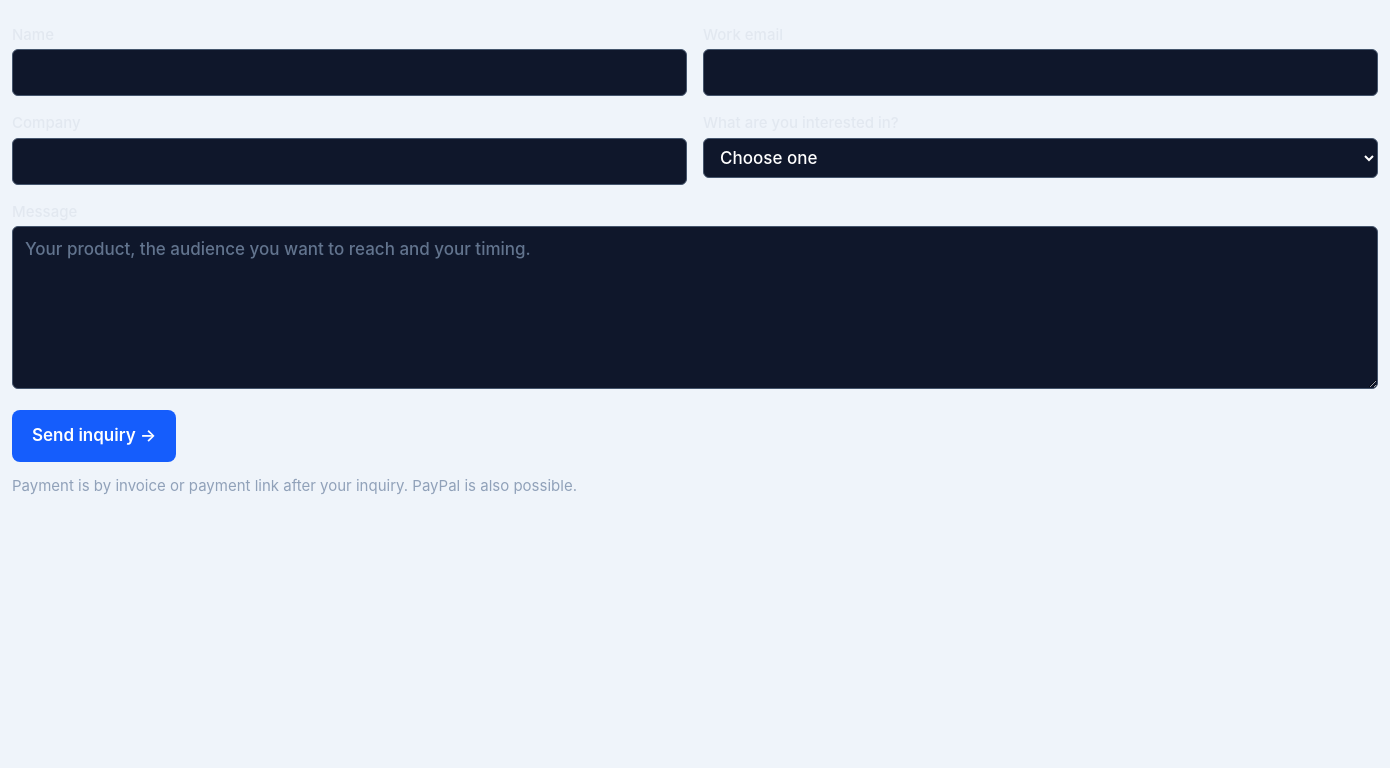
Scenario: sponsor inquiry recovery › preserves every field and the retry draft for HTTP 429 and {"success":false,"error":"Please try again in an hour."}
This screenshot has width=1390, height=768.
Type "Reliability test" into the field labelled "Name" at (350, 73), box 12,49 -> 687,96
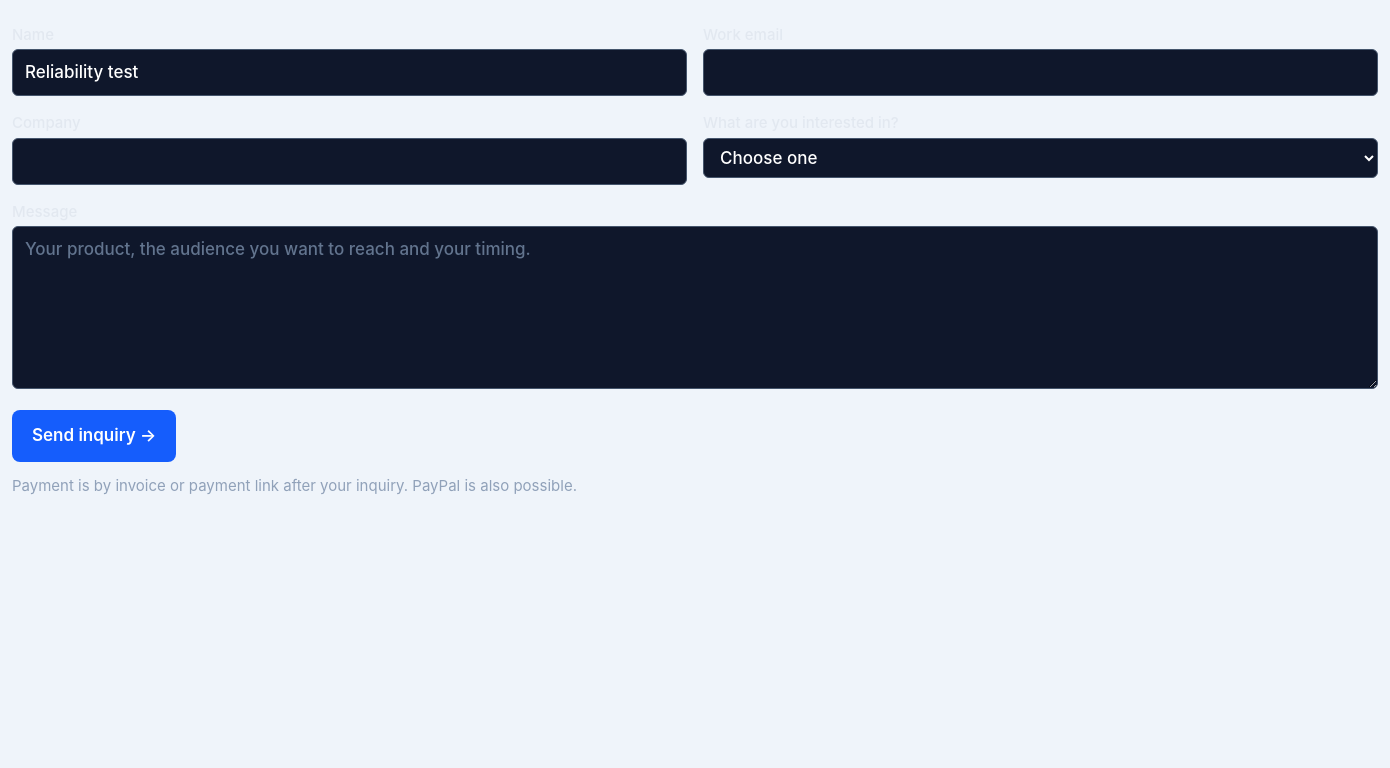
Type "test@example.com" into the field labelled "Work email" at (1040, 73), box 703,49 -> 1378,96
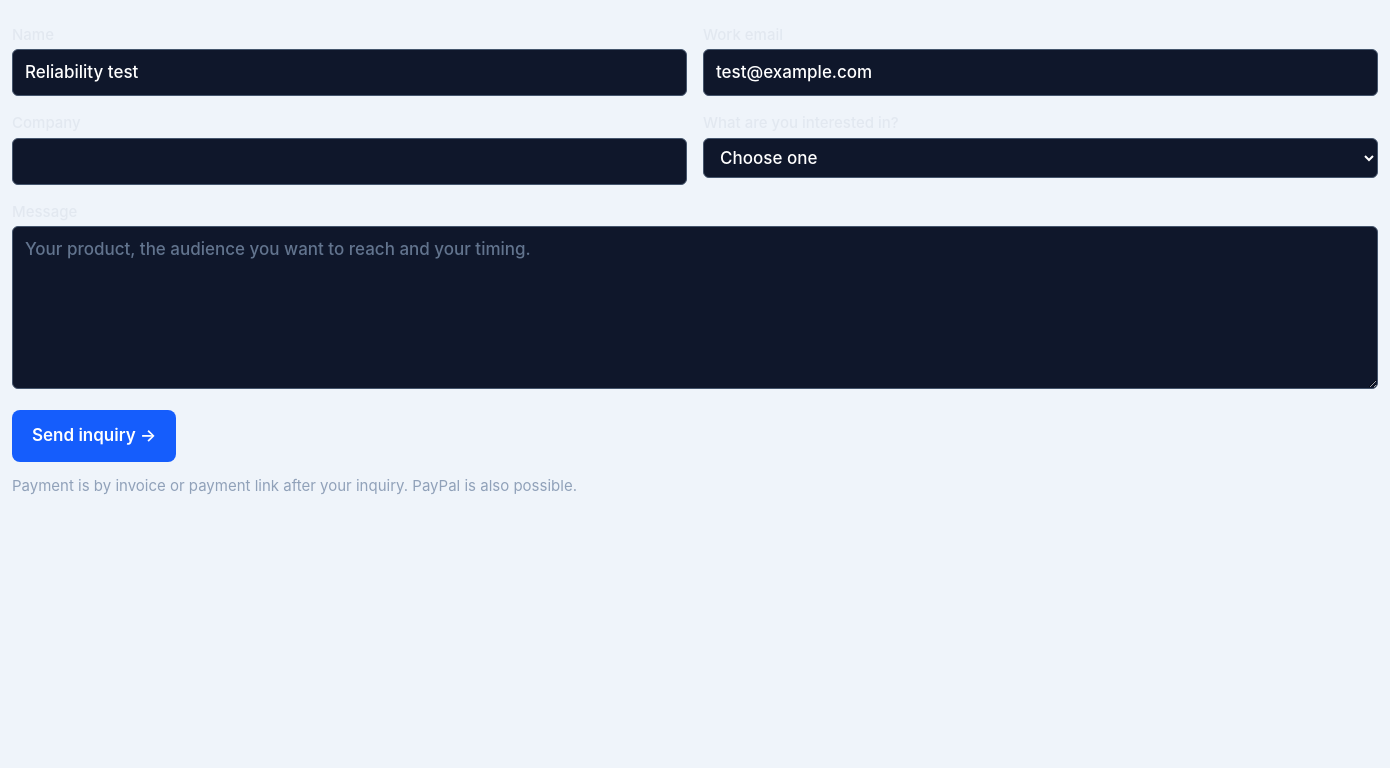
Type "Synthetic test" into the field labelled "Company" at (350, 161), box 12,138 -> 687,185
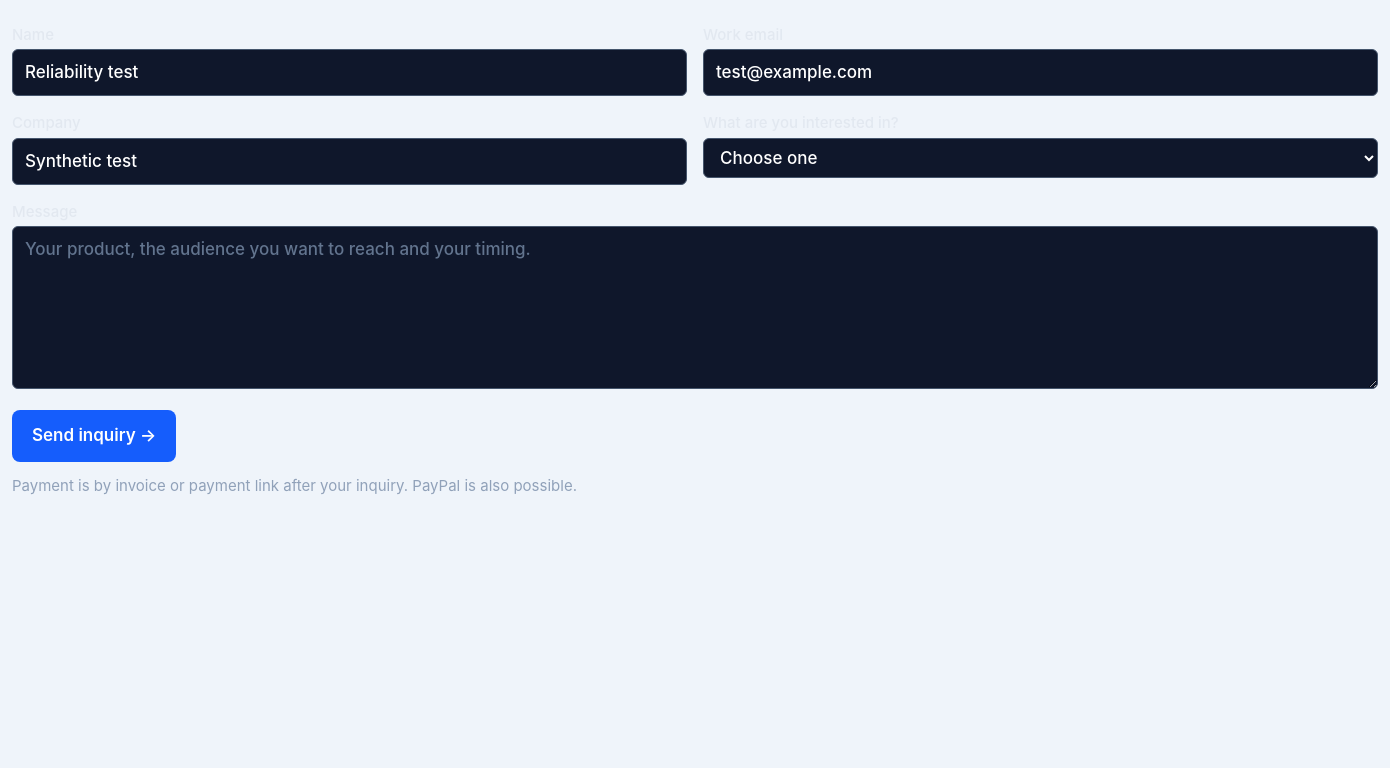
Select "Single Brief slot — $39" in the dropdown labelled "What are you interested in?" at (1040, 158), box 703,138 -> 1378,178
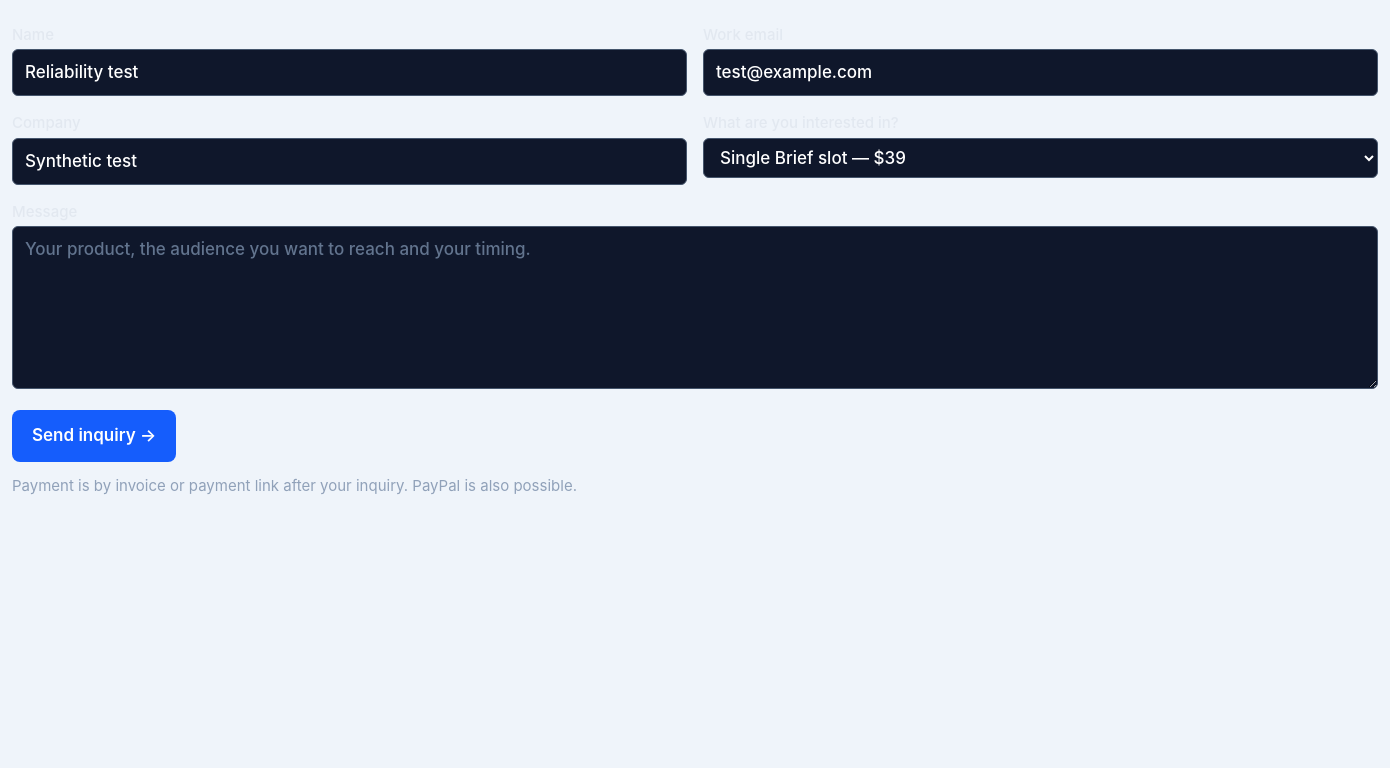
Replace the text in the text box labelled "Message" with "Synthetic inquiry, not a sponsorship booking." at (695, 307), box 12,226 -> 1378,388
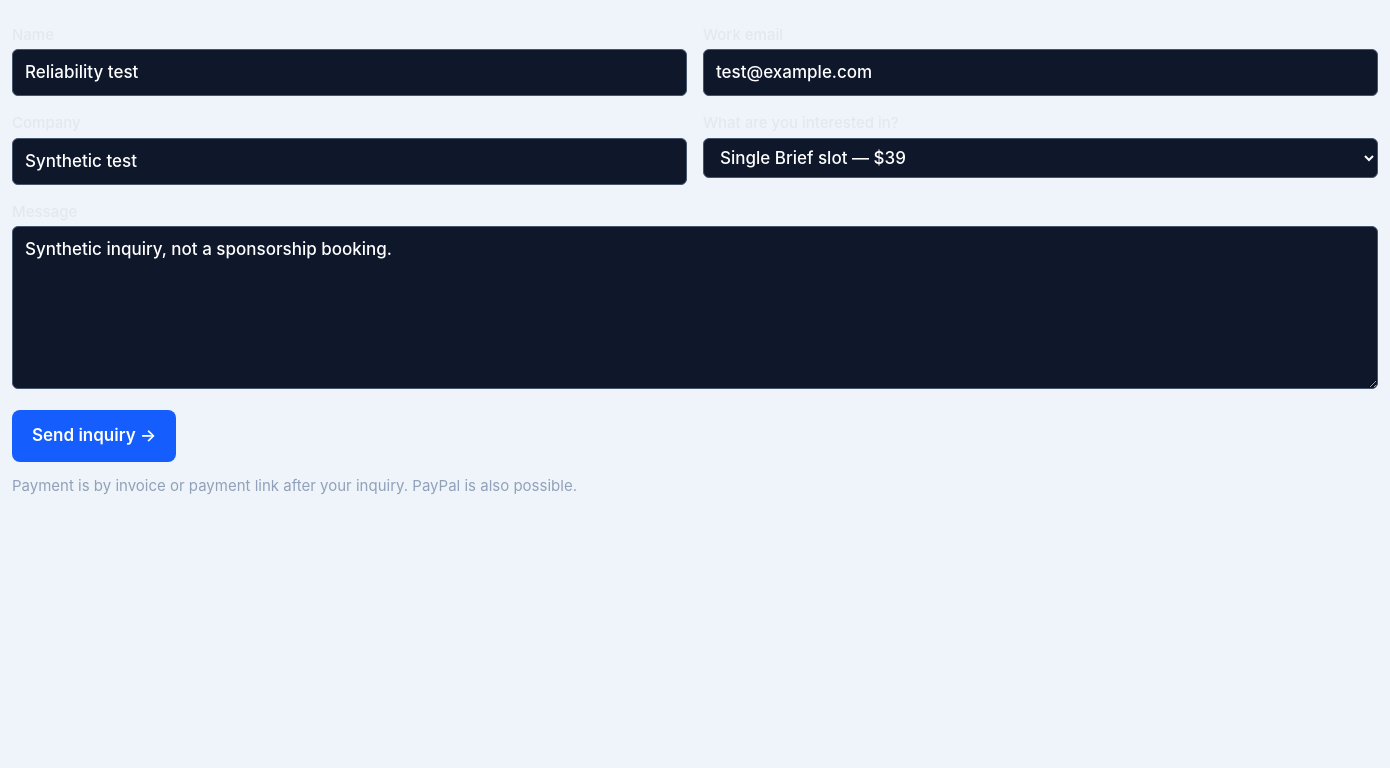
Submit the form
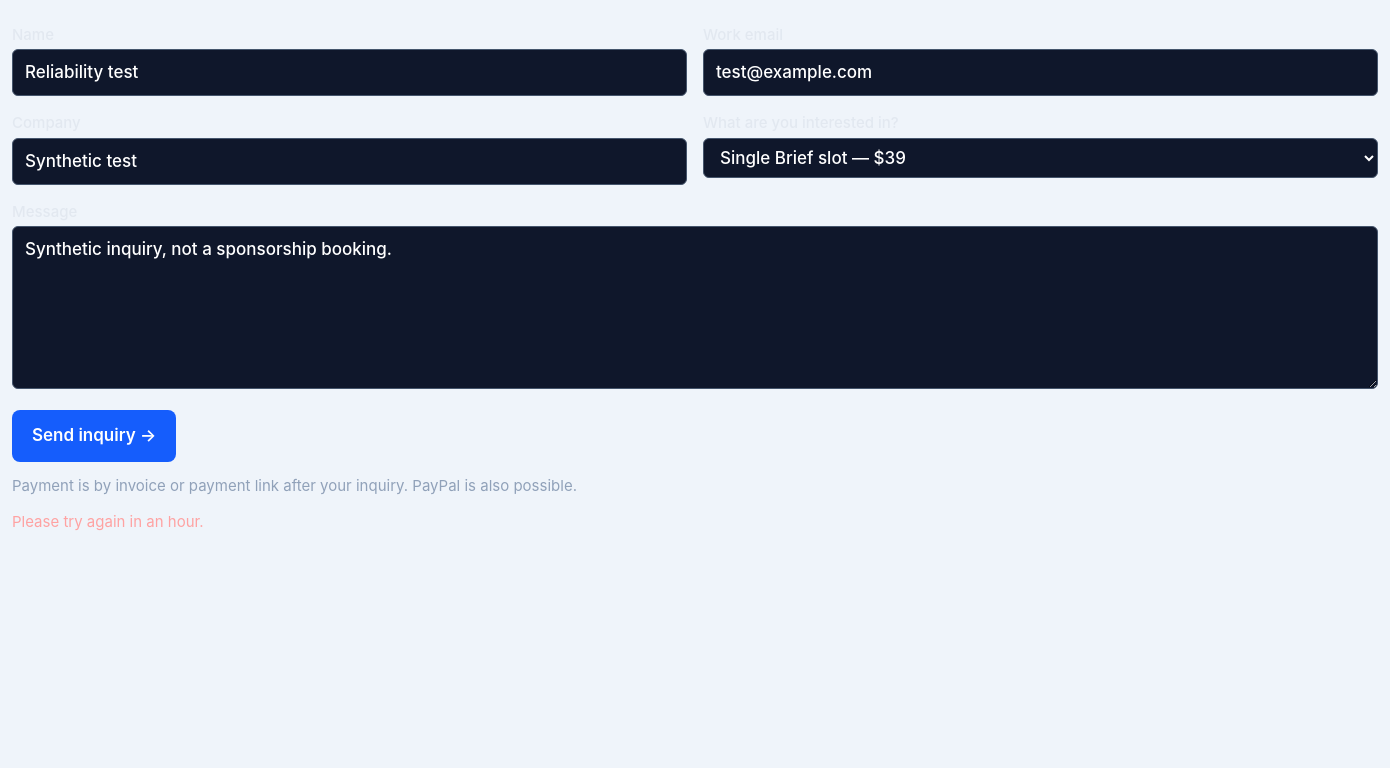
Expected: the message "Please try again in an hour." is shown, 12,512 -> 204,531
